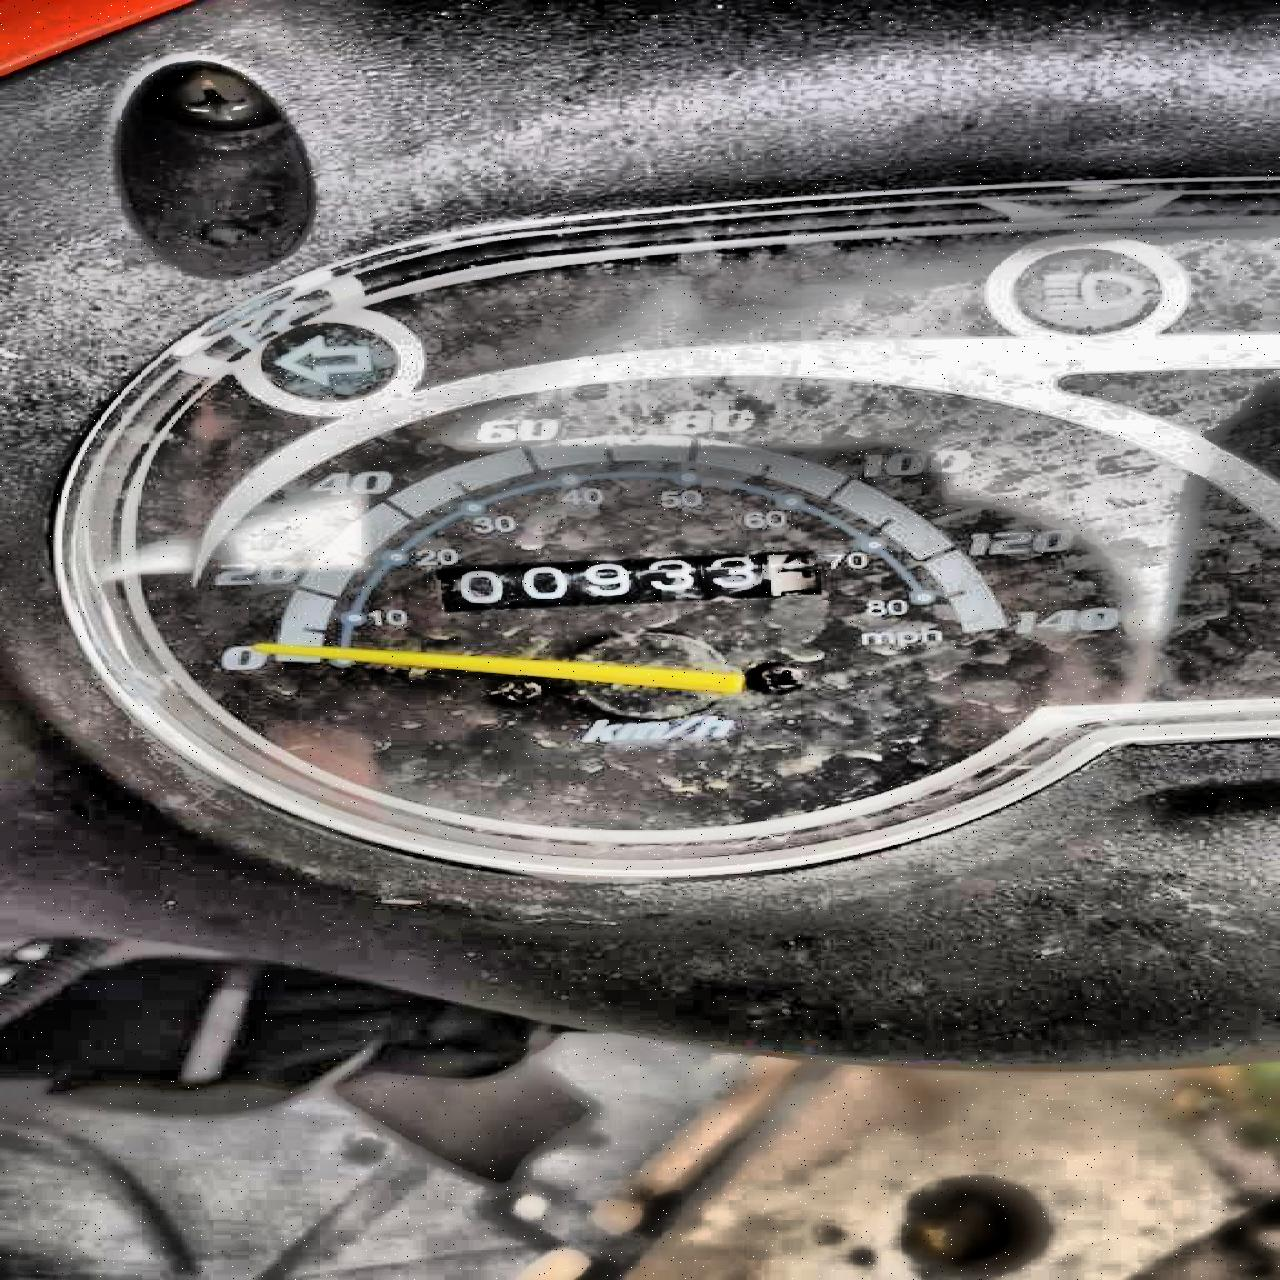0: (454, 567, 504, 602), (518, 564, 568, 599), (434, 547, 456, 564)
3: (707, 553, 756, 587), (645, 558, 694, 591)
4: (769, 551, 813, 578)
9: (580, 561, 631, 597)
odometer: (429, 546, 828, 614)
